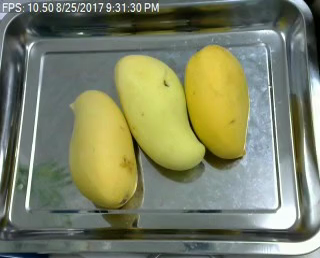Mango: (113, 53, 204, 175), (68, 90, 137, 209), (184, 44, 250, 159)
